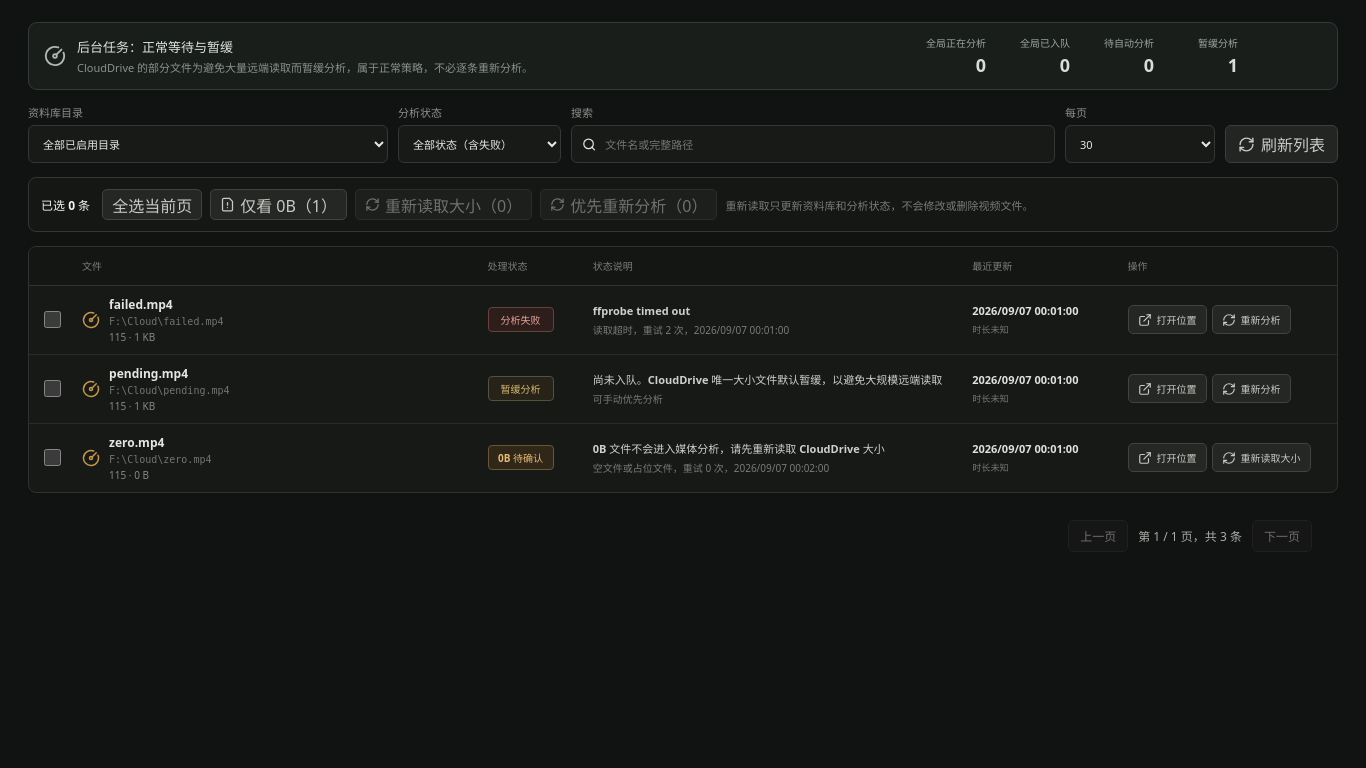
Test case: MetadataIssuesPage › reports failed open-location actions instead of leaving an unhandled rejection
Check: the text "failed.mp4" is shown, box [109,296,173,312]
Click the button "打开位置" in the row of "F:\\Cloud\\failed.mp4" at (1167, 320), box [1128,305,1206,334]
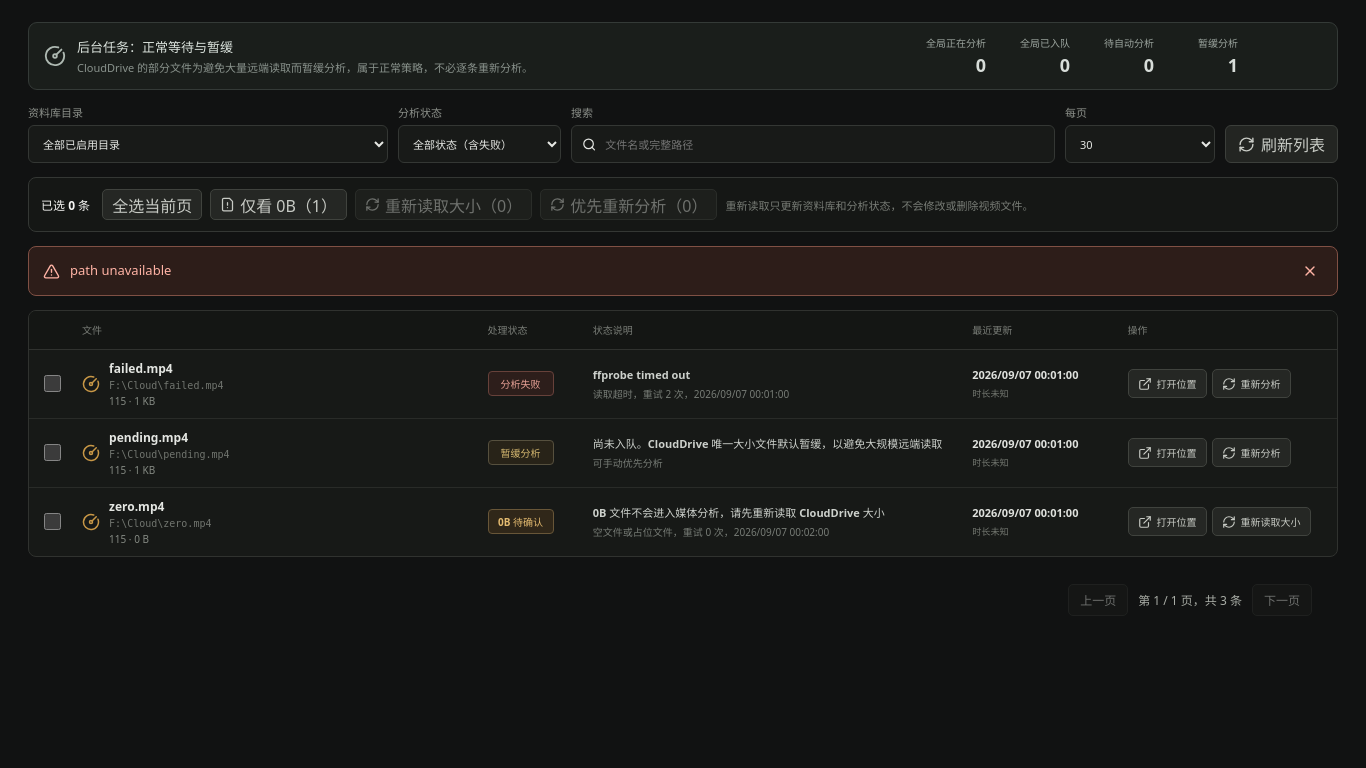
Check: the message reads "path unavailable", box [70,261,171,279]
